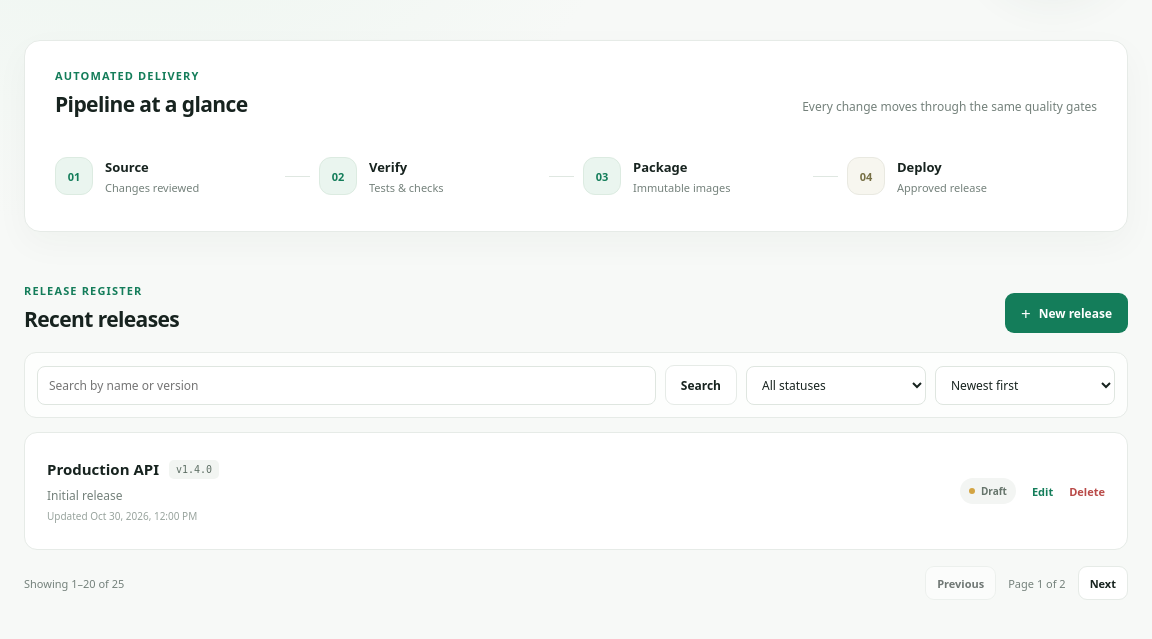
Test: release dashboard › returns to the first page after creating a release on a later page
(page scrolled)
Click the button "Next" at (1103, 583), box [1078, 566, 1128, 600]
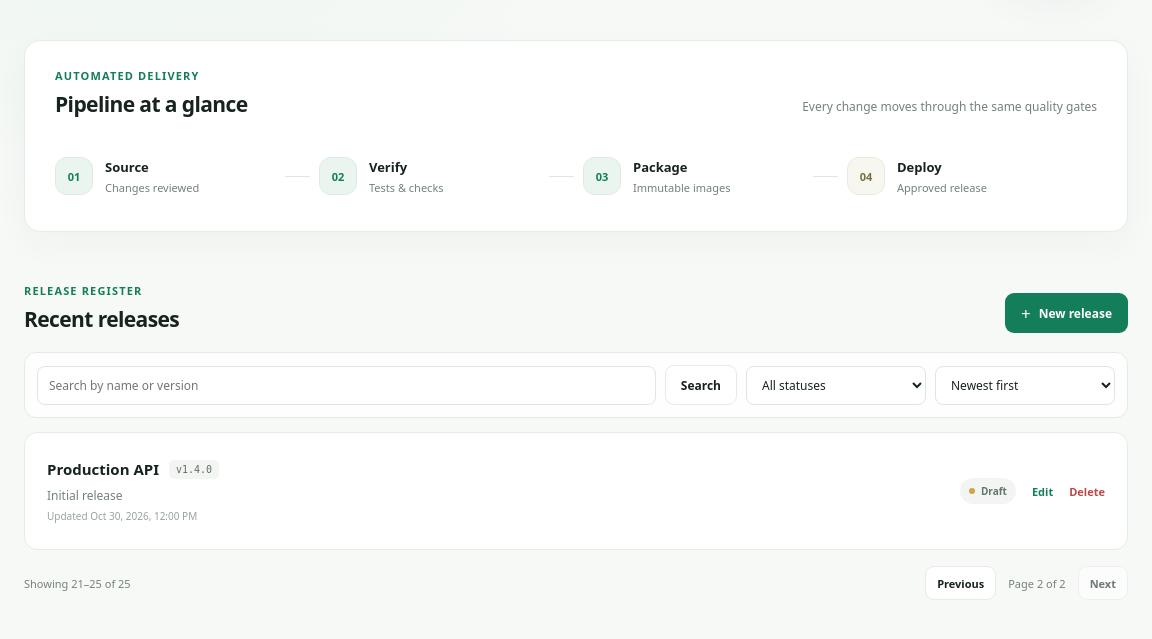
Click the button "+ New release" at (1066, 313), box [1005, 293, 1128, 333]
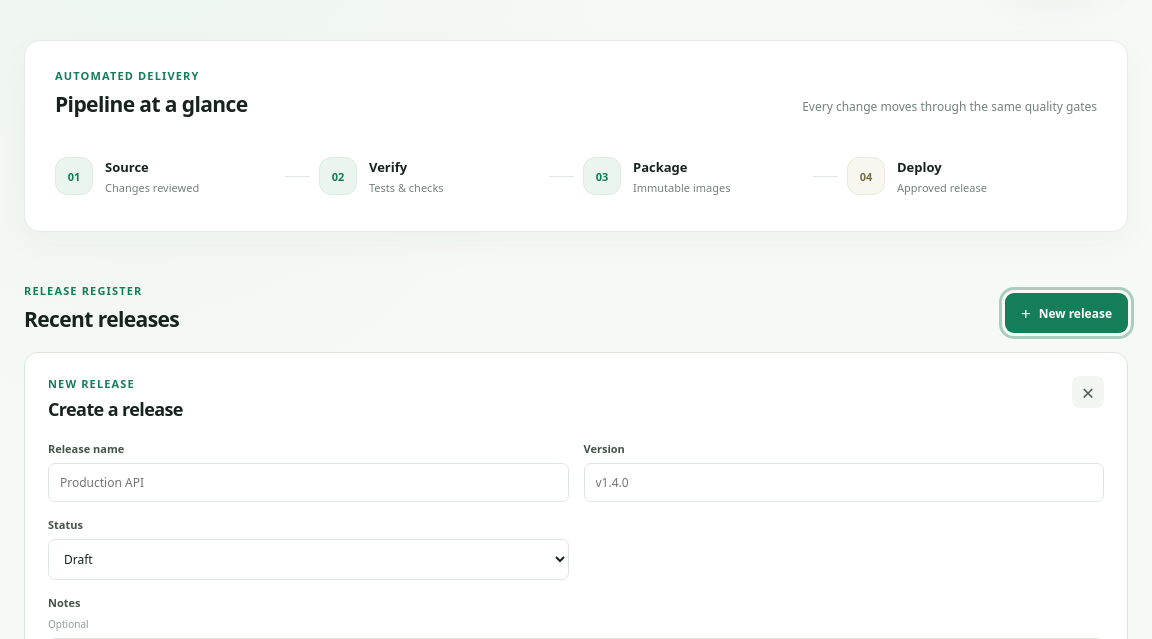
Type "New API" into the field labelled "Release name" at (308, 482), box [48, 463, 568, 502]
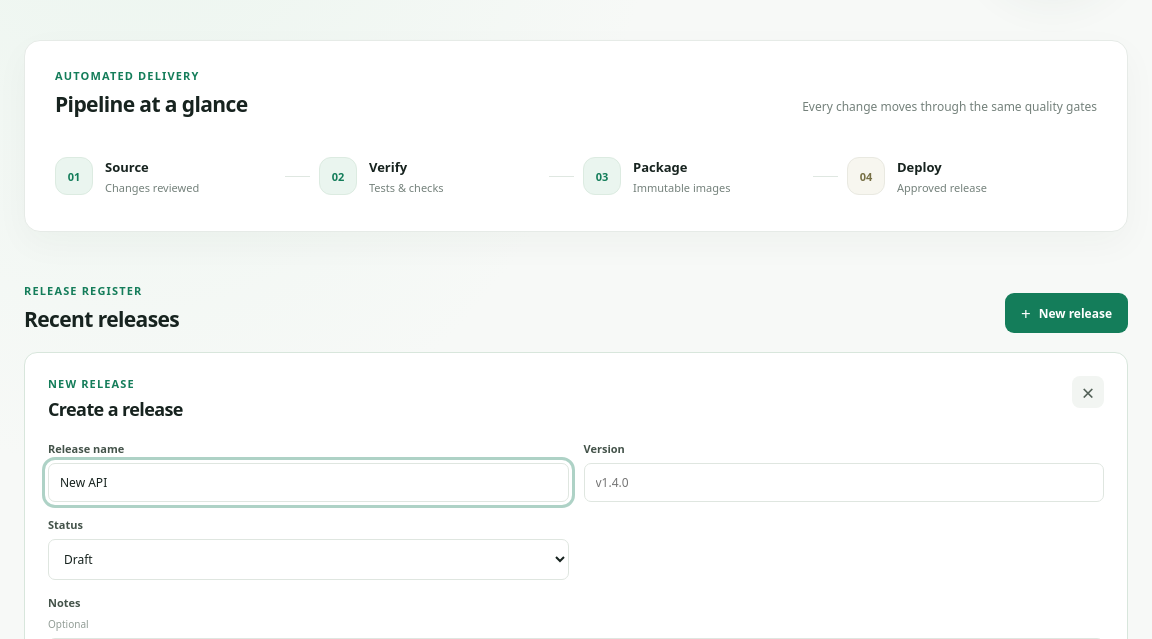
Type "v2.0.0" into the field labelled "Version" at (844, 482), box [584, 463, 1104, 502]
(page scrolled)
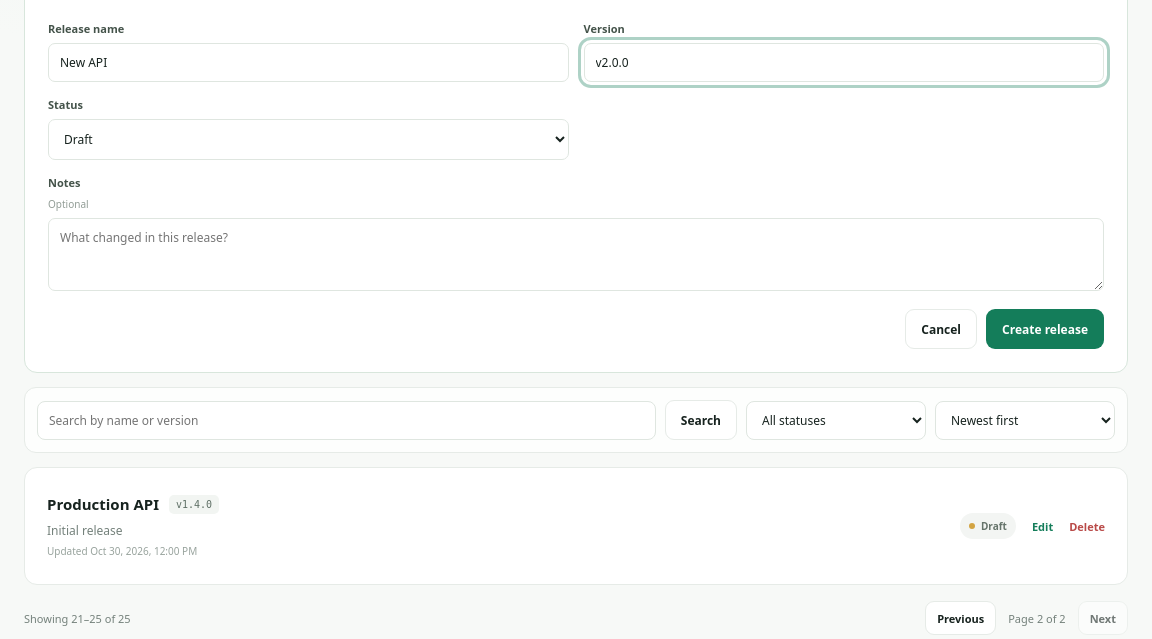
Click the button "Create release" at (1045, 329), box [986, 309, 1104, 349]
(page scrolled)
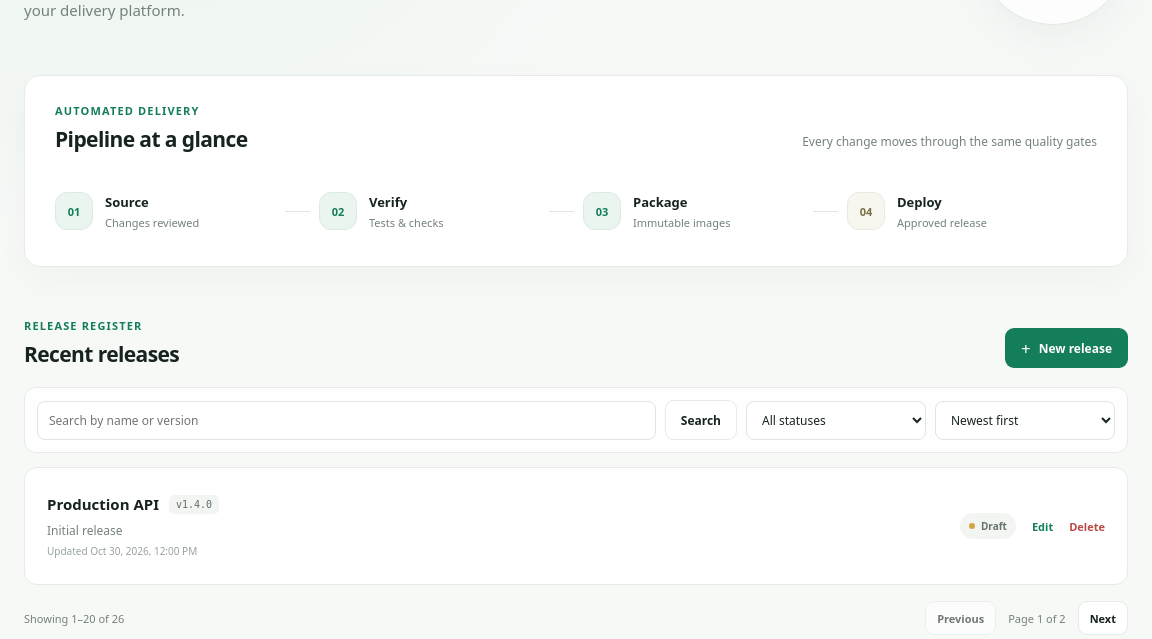
Now the text "Showing 1–20 of 26" is shown, box [24, 610, 124, 626]
